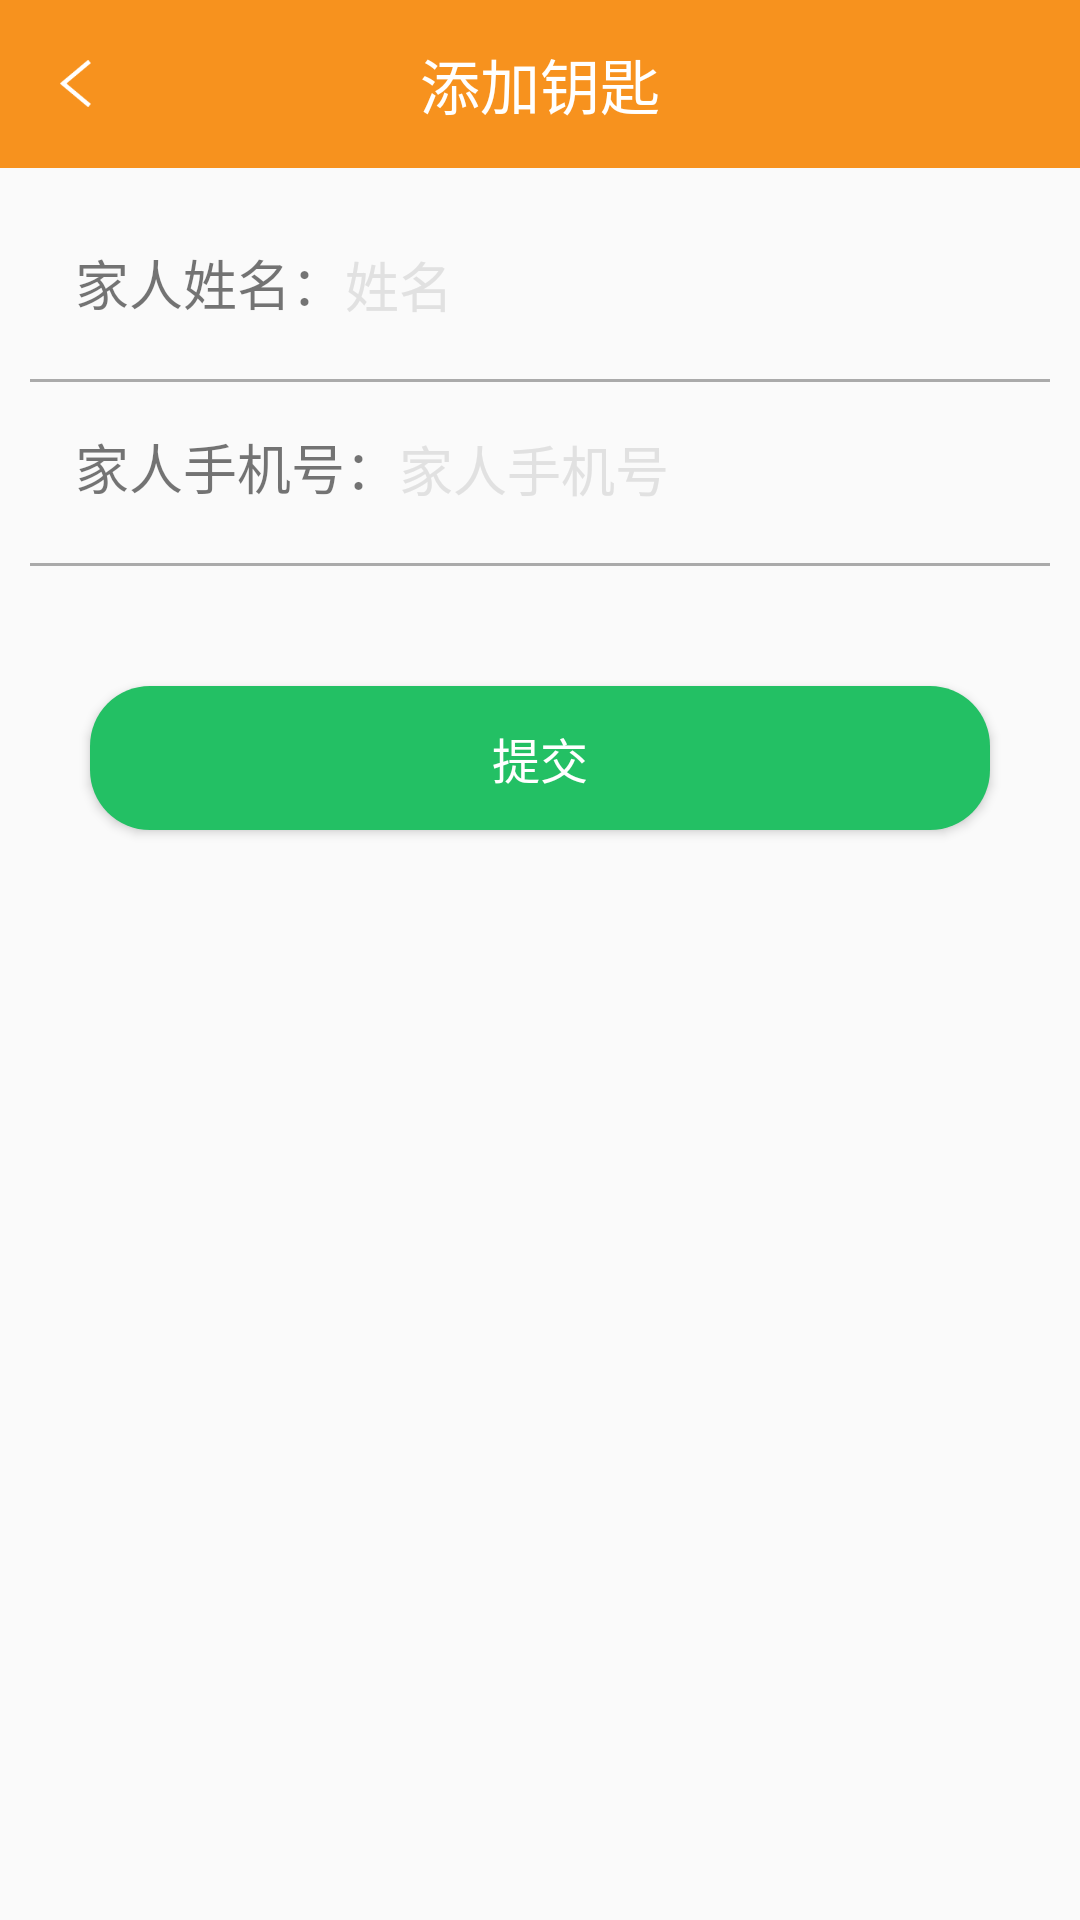

Icon click points for this 1080×1920 phone screenshot, format [x,y]:
back: [75,83]
